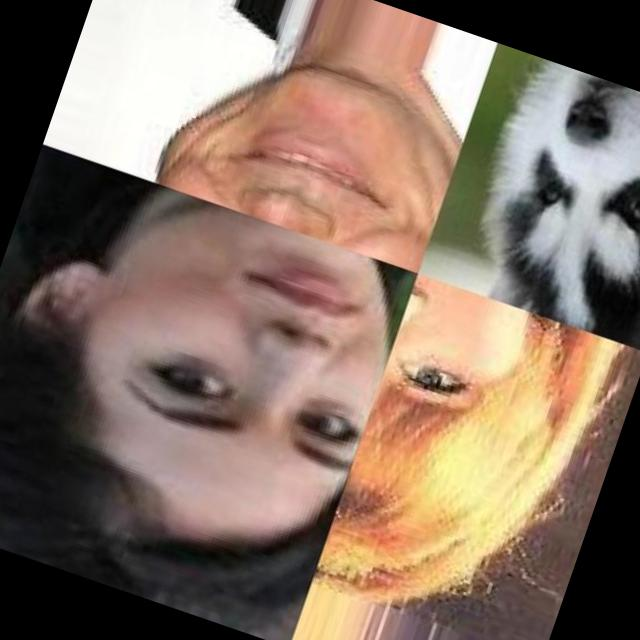bareface: (36, 186, 425, 587)
